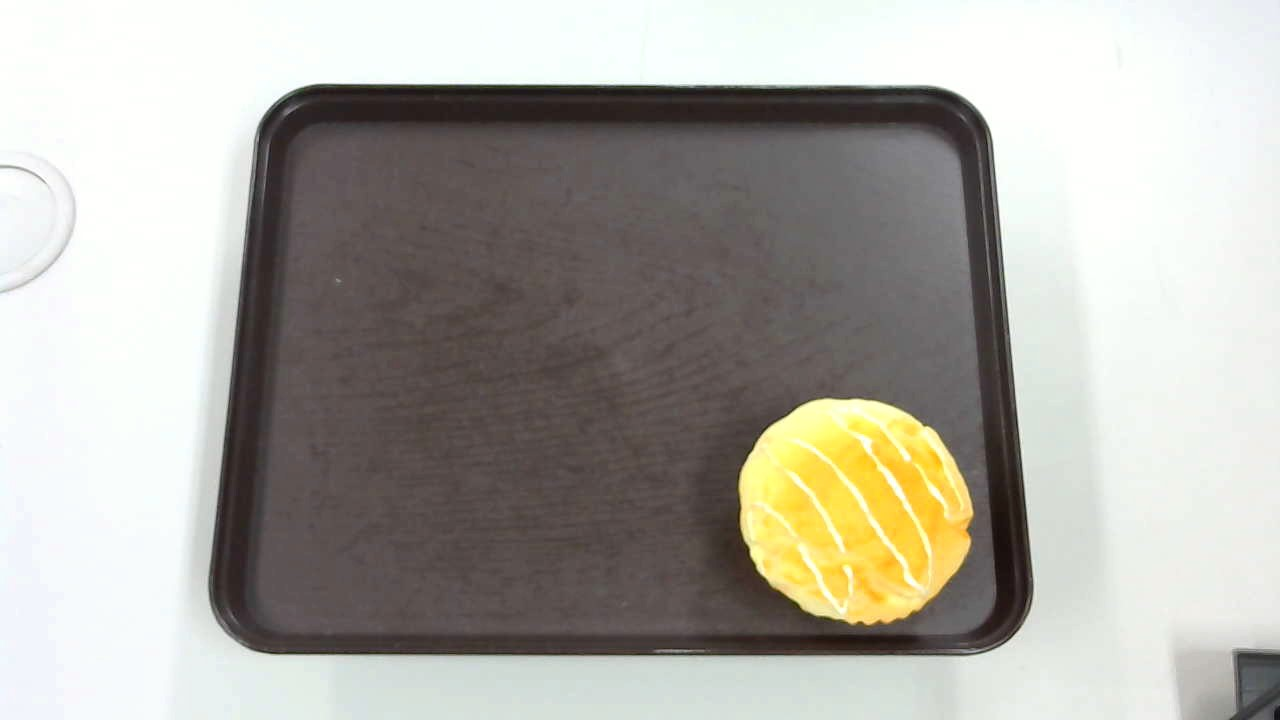cupcake: (739, 397, 975, 626)
